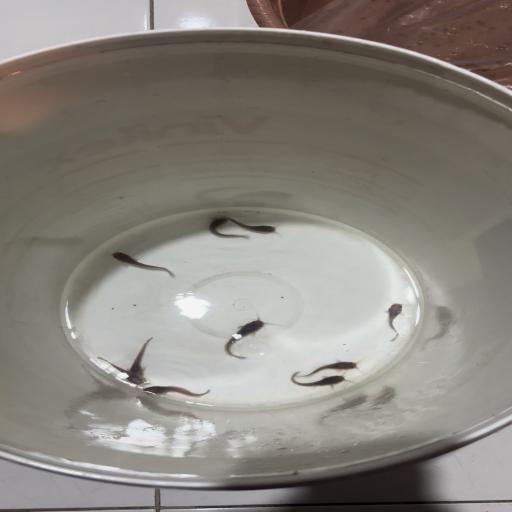lele: (213, 311, 276, 359), (108, 249, 178, 278), (90, 356, 142, 386), (124, 336, 157, 376), (299, 358, 363, 378), (380, 298, 408, 343), (140, 384, 212, 400), (231, 214, 281, 237), (286, 372, 356, 388), (203, 217, 248, 239)
